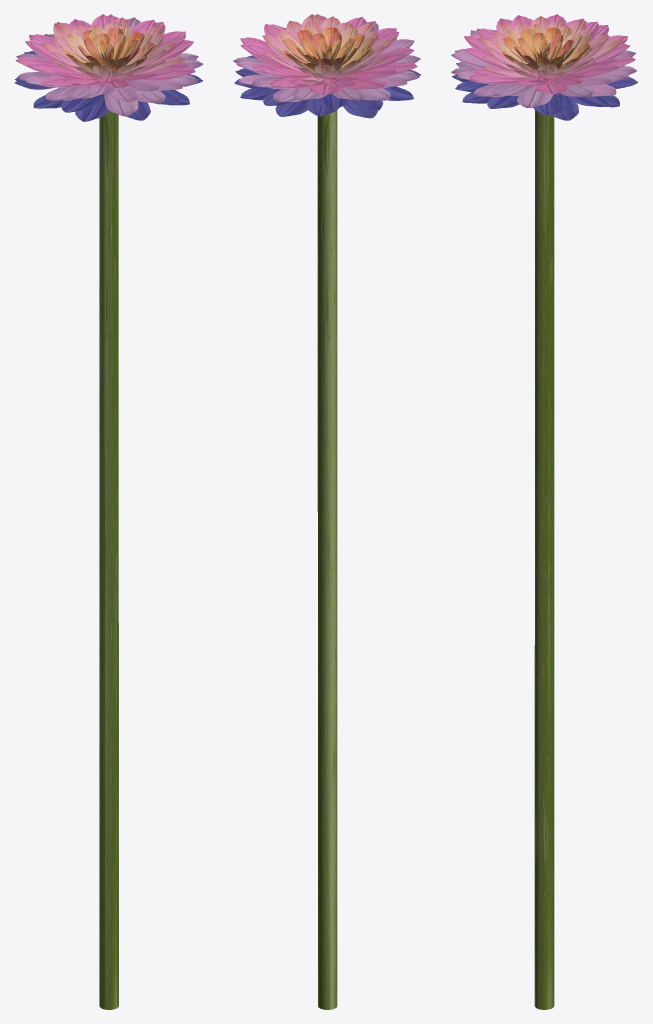
File: flor_11.fbx
3 views of the same model, side by side, from view 1: azimuth 30°, elevation 25°; view 2: azimuth 150°, elevation 25°; view 3: azimuth 270°, elevation 25° (orthographic).
Parts seen in each view (by area): view 1: Plane.068; view 2: Plane.068; view 3: Plane.068.
Boxes of the visible parts, left/top/right/bottom form: Plane.068: left=14, top=14, right=203, bottom=1009; Plane.068: left=233, top=14, right=420, bottom=1009; Plane.068: left=451, top=14, right=638, bottom=1009.
Size of the model in its own units: 146 by 817 by 145.
2 materials, 2 textured.
